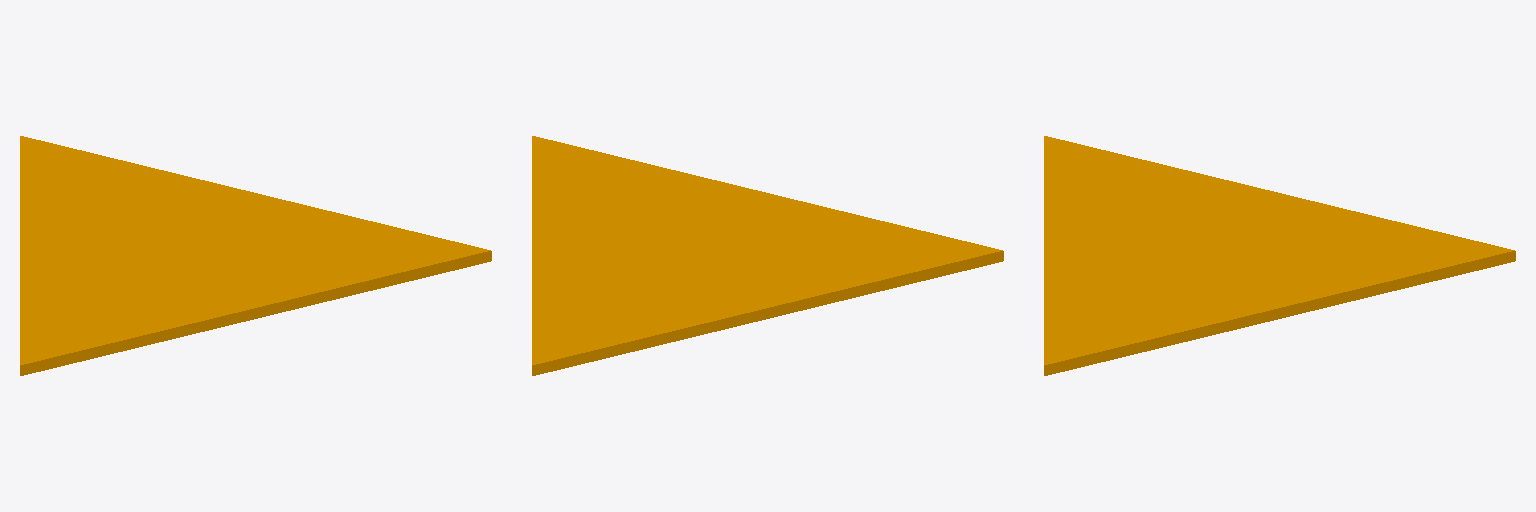
URDF robot description (red_triangle):
<?xml version="1.0"?>
<robot name="red_triangle">

<link name="base_link">
  <collision>
    <origin xyz="0 0 0.02" rpy="0 0 0"/>
    <geometry>
      <mesh filename="package://ur5_sorting_system/meshes/triangle.dae"/>
    </geometry>
  </collision>

  <visual>
    <origin xyz="0 0 0.02" rpy="0 0 0"/>
    <geometry>
      <mesh filename="package://ur5_sorting_system/meshes/triangle.dae"/>
    </geometry>
  </visual>

  <inertial>
    <origin xyz="0 0 0.02" rpy="0 0 0" />
    <mass value="0.000005" />
    <inertia
      ixx="0.001" ixy="0.0"  ixz="0.0"
      iyy="0.001" iyz="0.0"
      izz="0.001" />
  </inertial>
  </link>

<gazebo reference="base_link">
  <material>Gazebo/Yellow</material>
    <mu1>99999</mu1>
    <mu2>99999</mu2>
</gazebo>

</robot>

--- Facts derived from the render (not from the file) ---
3 views of the same robot in one strip: view 1: azimuth 30°, elevation 25°; view 2: azimuth 150°, elevation 25°; view 3: azimuth 270°, elevation 25° (orthographic).
Model red_triangle with 1 links and 0 joints (none), rooted at base_link, posed all joints at 0.
Links seen in each view (by area): view 1: base_link; view 2: base_link; view 3: base_link.
Link boxes in pixels (box(x1,y1,x2,y2)): base_link: box(20, 136, 491, 375); base_link: box(532, 136, 1003, 375); base_link: box(1044, 136, 1515, 375).
Bounding box of the posed robot: 1.13 × 0.975 × 0.025 m (x, y, z).
Meshes: 1 distinct files referenced, 1 mesh visuals loaded (1 Collada DAE).